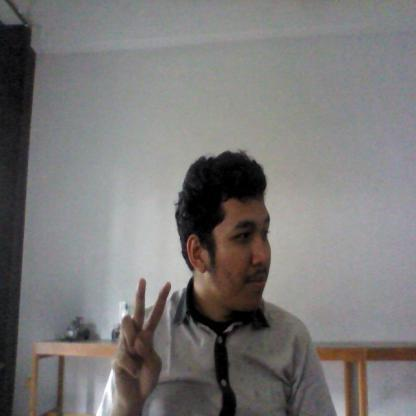V: (112, 276, 174, 411)
